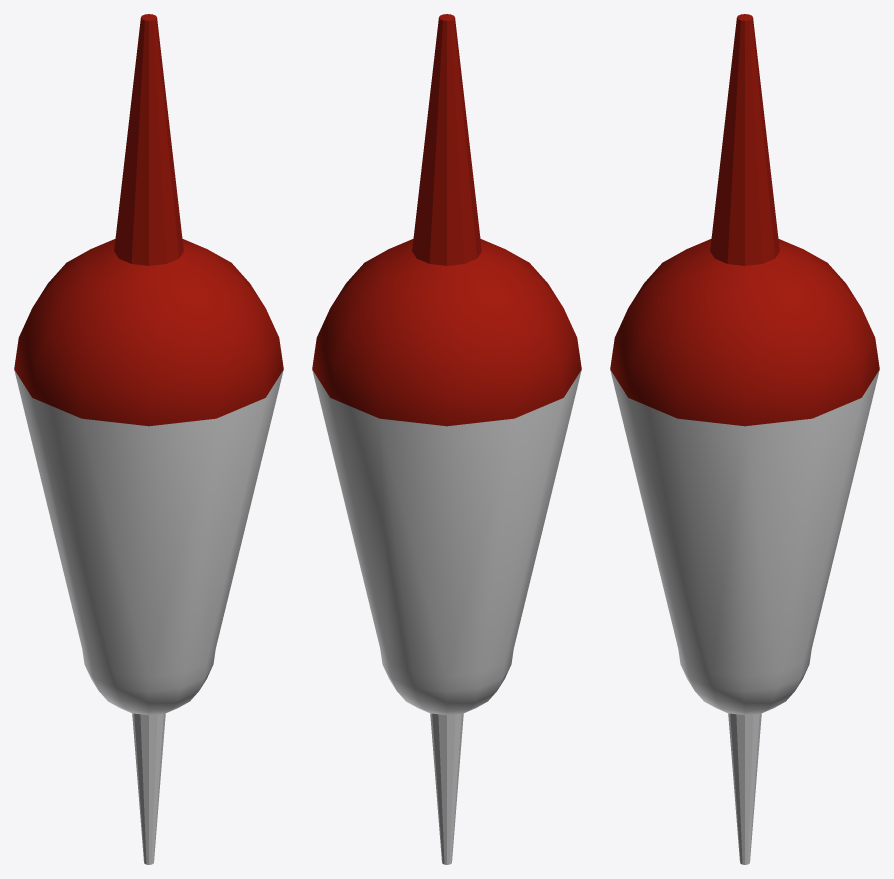
File: boya.fbx
3 views of the same model, side by side, from view 1: azimuth 30°, elevation 25°; view 2: azimuth 150°, elevation 25°; view 3: azimuth 270°, elevation 25° (orthographic).
Parts seen in each view (by area): view 1: Capsule001; view 2: Capsule001; view 3: Capsule001.
Part boxes in pixels (x1,y1,x2,y2): Capsule001: [14, 14, 283, 864]; Capsule001: [312, 14, 581, 864]; Capsule001: [610, 14, 879, 864].
Bounding box in the file's own units: 1.8 × 6.22 × 1.8.
